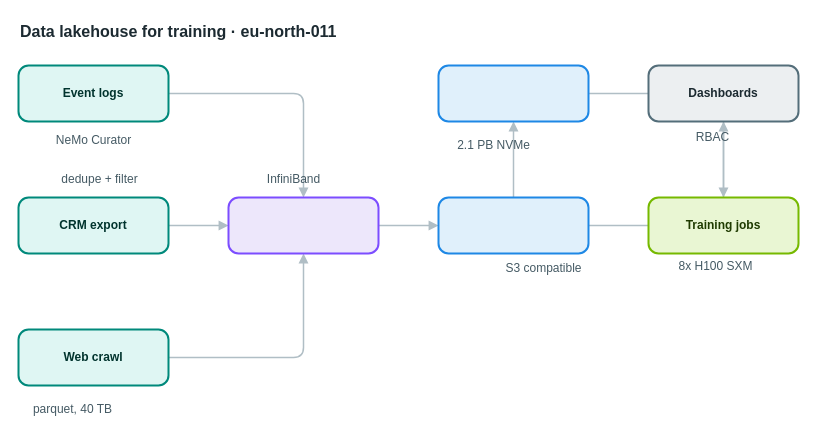
This 816x436 diagram has some shape labels left out. Each missing label, with the box of its shape:
Feature store: (437, 64, 589, 122)
Lakehouse: (437, 196, 589, 254)
Stream bus: (227, 196, 379, 254)
